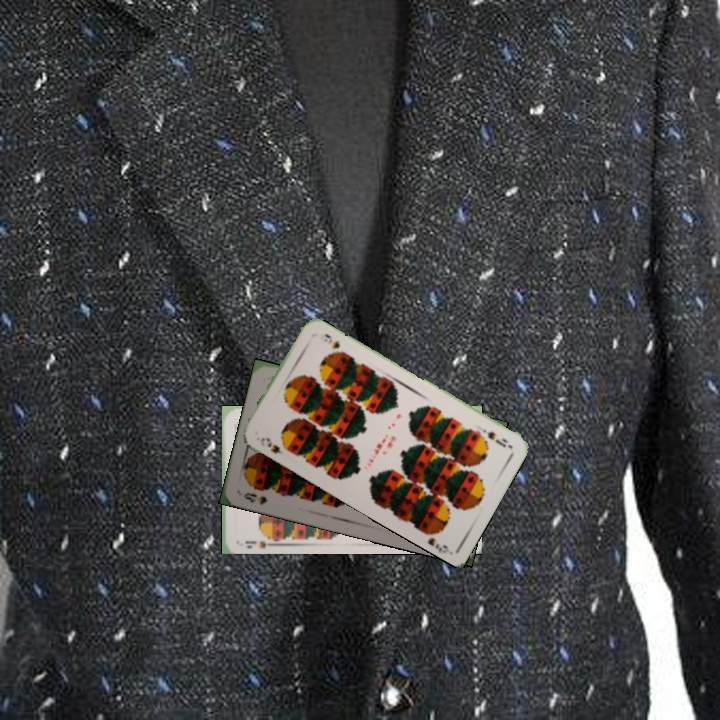S8: (240, 488, 270, 507)
S9: (477, 423, 513, 450), (256, 433, 286, 457), (241, 530, 277, 549)
